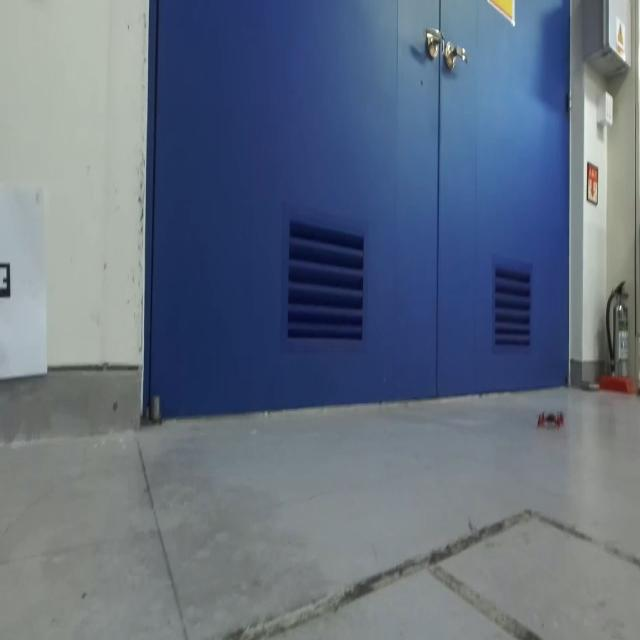crazyflie: (534, 404, 570, 439)
